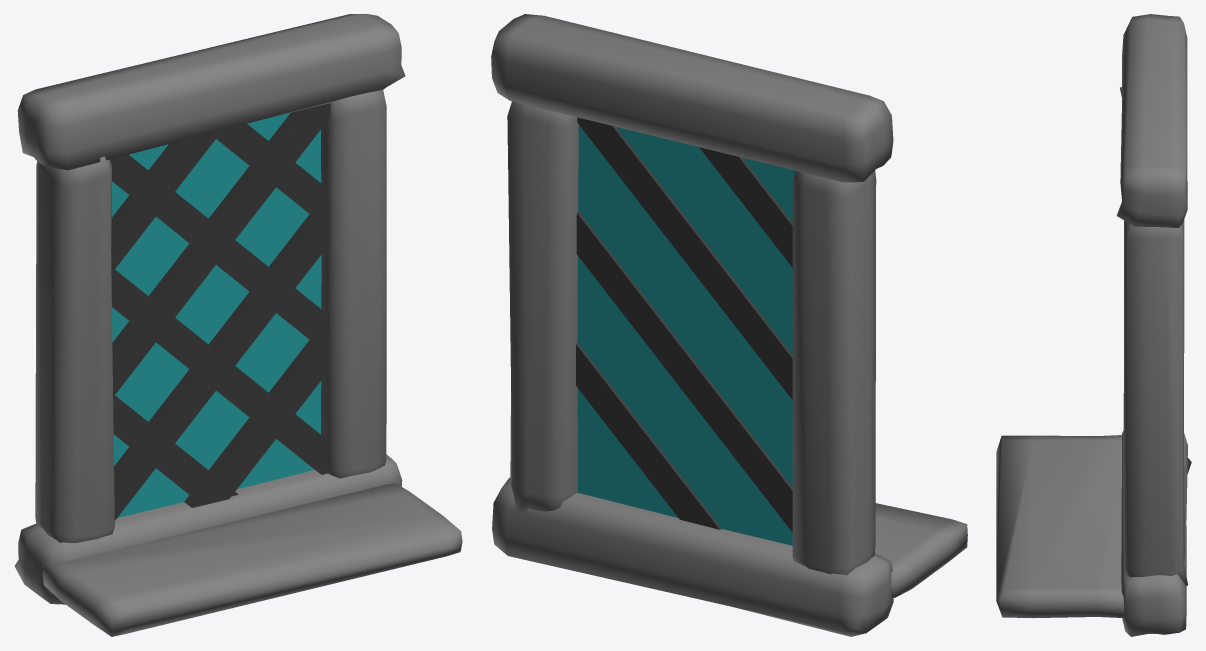
File: SM_window_04.fbx
3 views of the same model, side by side, from view 1: azimuth 30°, elevation 25°; view 2: azimuth 150°, elevation 25°; view 3: azimuth 270°, elevation 25° (orthographic). The views are drawn at different scales.
Parts seen in each view (by area): view 1: Object342446; view 2: Object342446; view 3: Object342446.
Boxes of the visible parts, box(x1,y1,x2,y2) form: Object342446: box(14, 14, 462, 636); Object342446: box(491, 14, 967, 636); Object342446: box(996, 14, 1191, 636).
Bounding box in the file's own units: 36.86 × 48.95 × 18.52.
